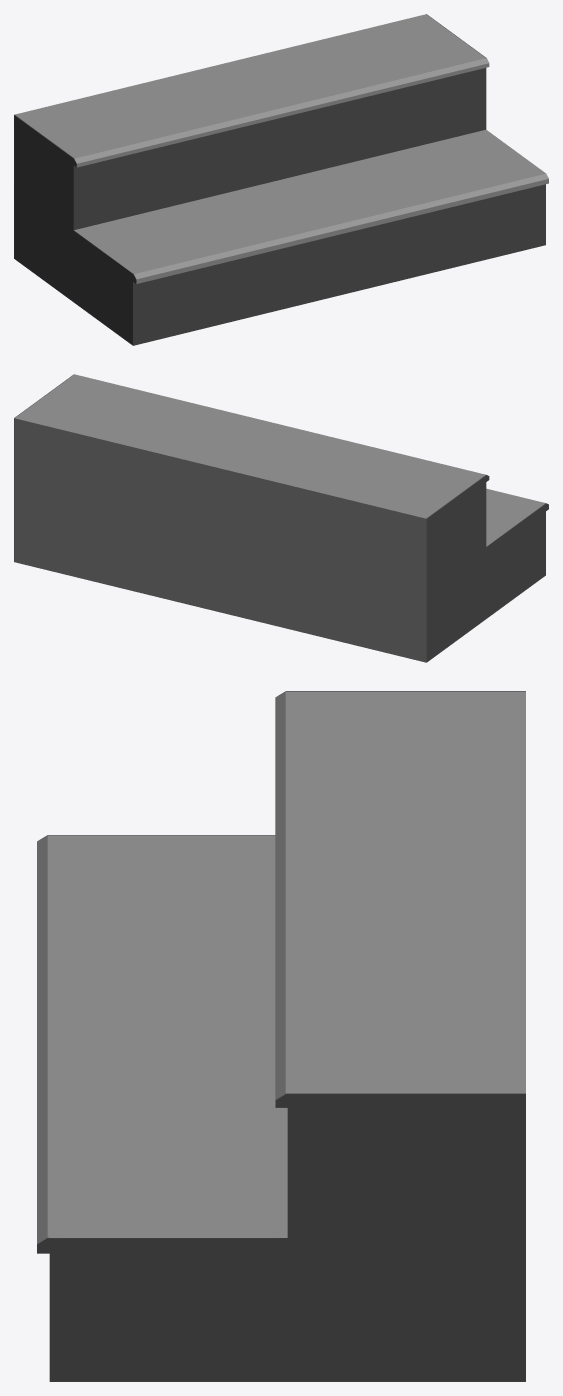
File: Scale.fbx
3 renders of one model, top to bottom at view 1: azimuth 30°, elevation 25°; view 2: azimuth 150°, elevation 25°; view 3: azimuth 270°, elevation 25°, orthographic. The views are drawn at different scales.
Visible parts, largest first — view 1: Cube; view 2: Cube; view 3: Cube.
Part boxes in pixels (box(x1,y1,x2,y2)): Cube: box(14, 14, 548, 345); Cube: box(14, 374, 548, 662); Cube: box(37, 691, 525, 1381).
Size of the model in its own units: 120 by 40 by 61.59.
